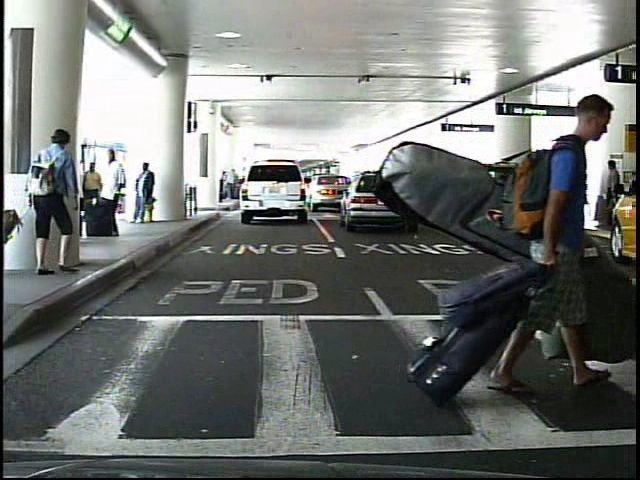person: (503, 88, 613, 393), (24, 127, 72, 276), (96, 146, 124, 239), (597, 158, 623, 226), (132, 161, 158, 228), (78, 158, 101, 232), (550, 164, 565, 213), (568, 169, 573, 214)
